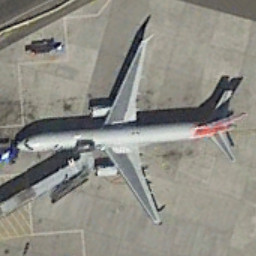Airplane: (13, 23, 254, 237)
